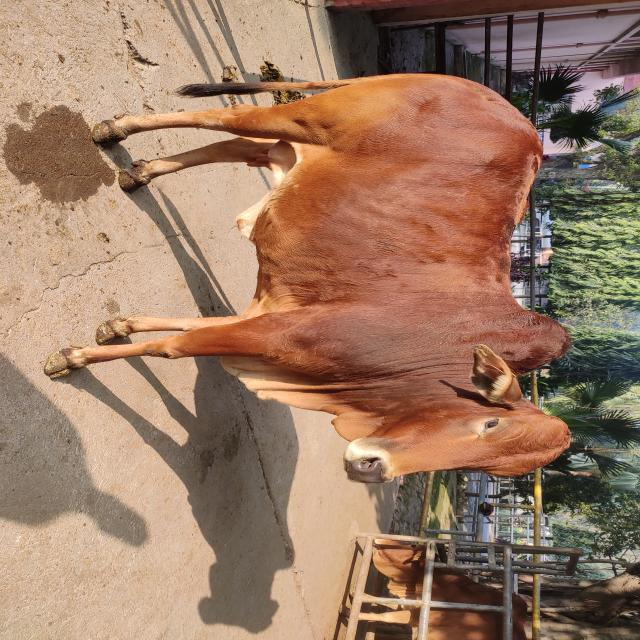cow: (42, 71, 574, 485)
hump: (508, 291, 573, 387)
